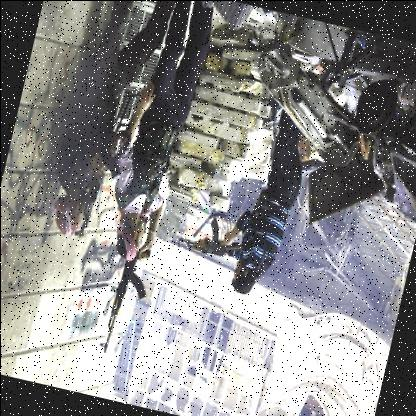rifle: (99, 191, 169, 358), (69, 90, 139, 241), (173, 204, 252, 268)
